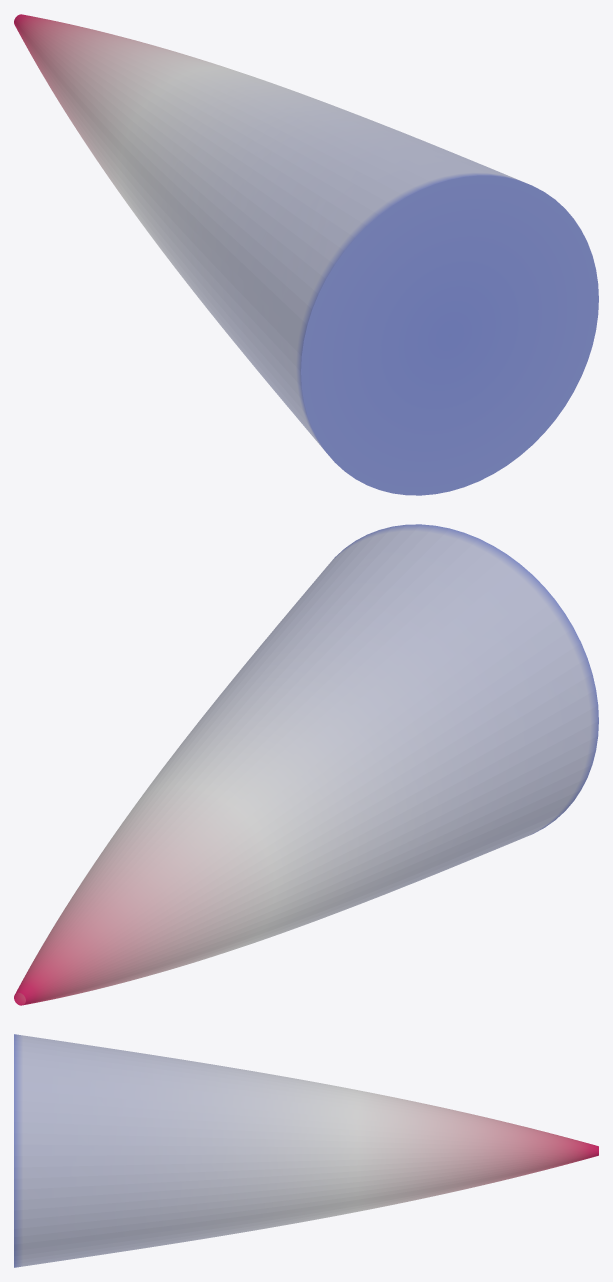
File: frame_038_unlit.glb
The picture shows the model from 3 angles, top to bottom: view 1: azimuth 30°, elevation 25°; view 2: azimuth 150°, elevation 25°; view 3: azimuth 270°, elevation 25°; orthographic projection. The views are drawn at different scales.
Visible parts, largest first — view 1: geometry_0; view 2: geometry_0; view 3: geometry_0.
Boxes of the visible parts, bbox=[...] form: geometry_0: bbox=[14, 14, 598, 495]; geometry_0: bbox=[14, 524, 598, 1005]; geometry_0: bbox=[14, 1034, 598, 1267].
Size of the model in its own units: 0.4 by 0.4 by 1.
